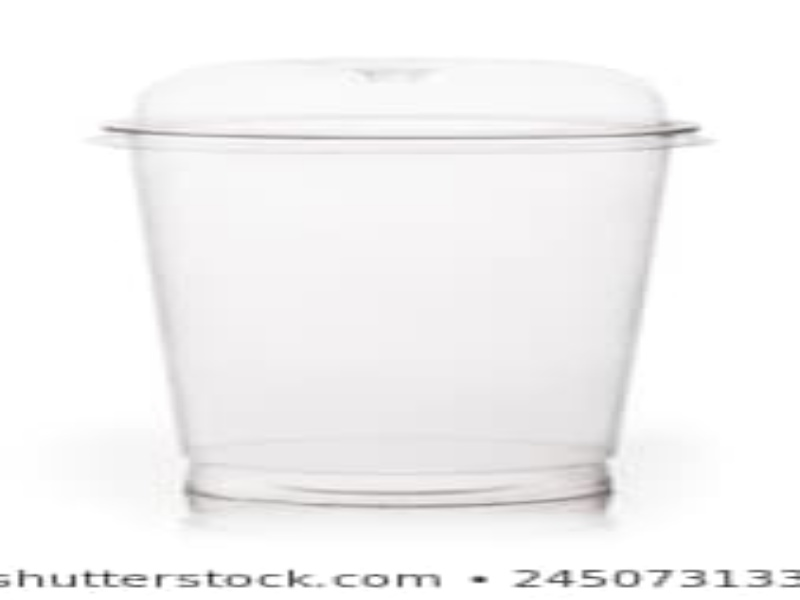plastic-cup: (86, 53, 712, 514)
